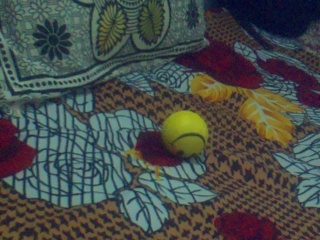ball: (161, 110, 208, 156)
